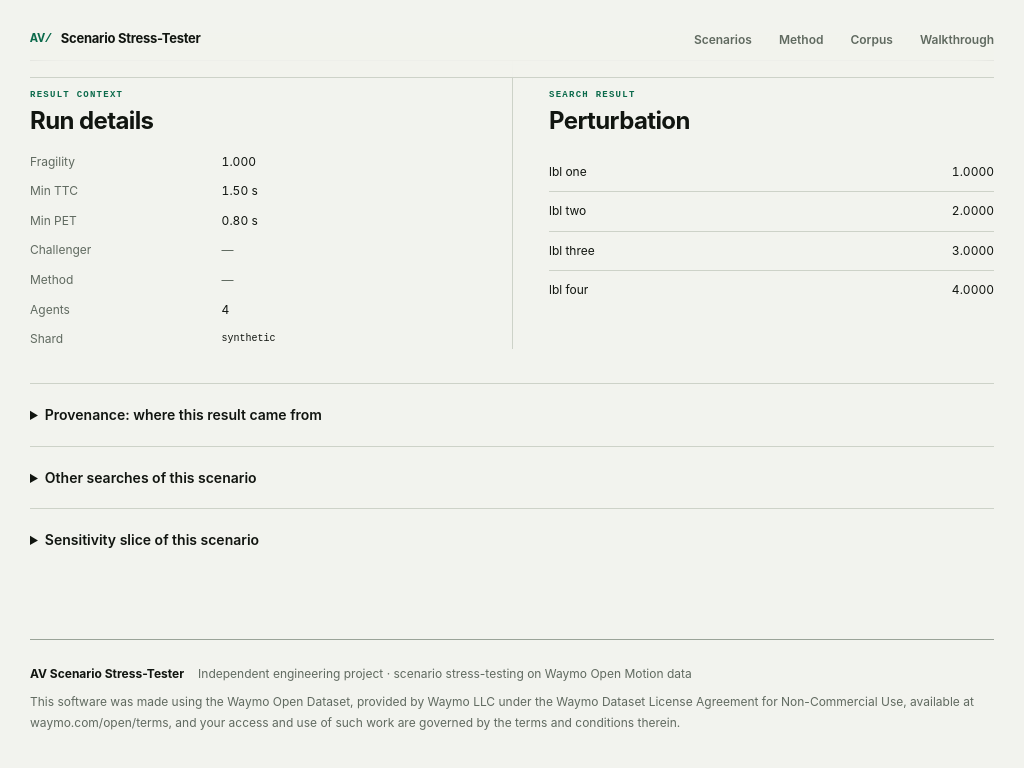
Test case: what it shows › shows the identity, the times and the model, as the payload has them
(page scrolled)
Click the heading "Provenance: where this result came from" at (183, 414), box [45, 406, 322, 423]
(page scrolled)
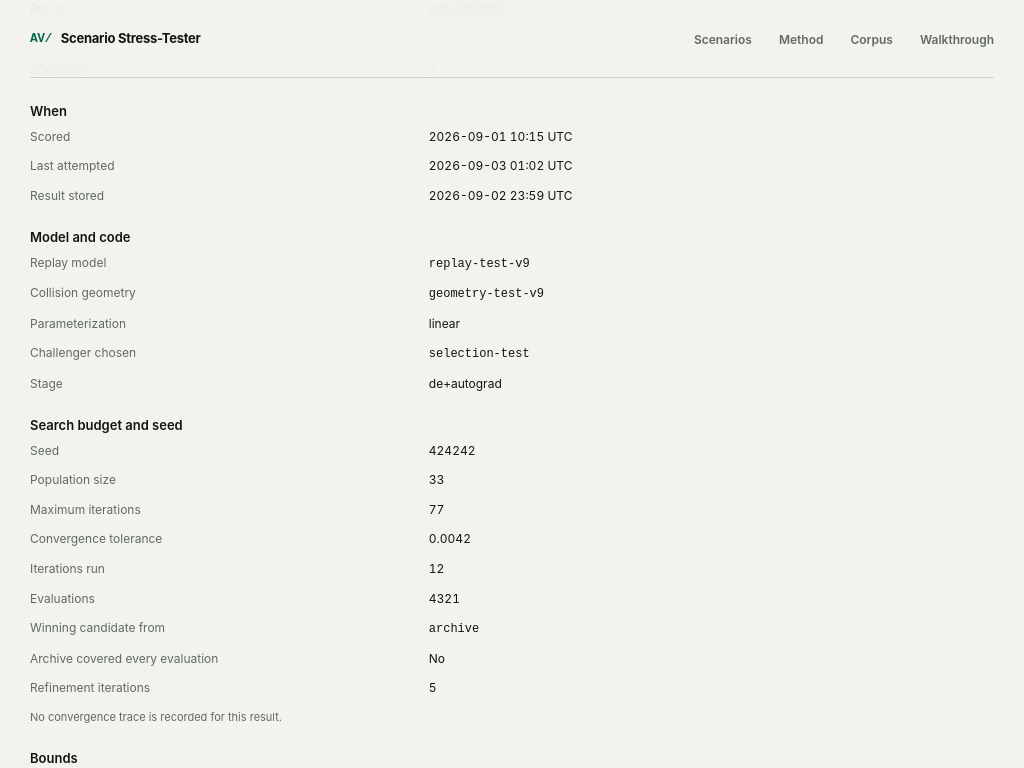
Result: the text "replay-test-v9" is shown at [429, 256, 530, 270]
Result: the text "geometry-test-v9" is shown at [429, 287, 544, 301]
Result: the text "linear" is shown at [429, 316, 460, 331]
